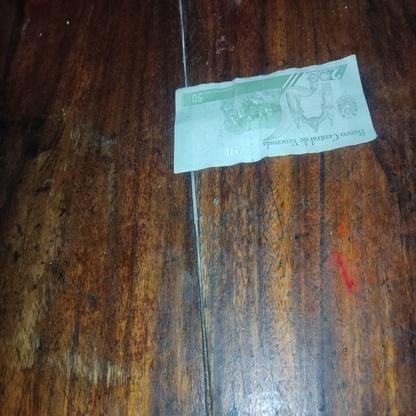fifty-back-vef: (172, 53, 378, 174)
